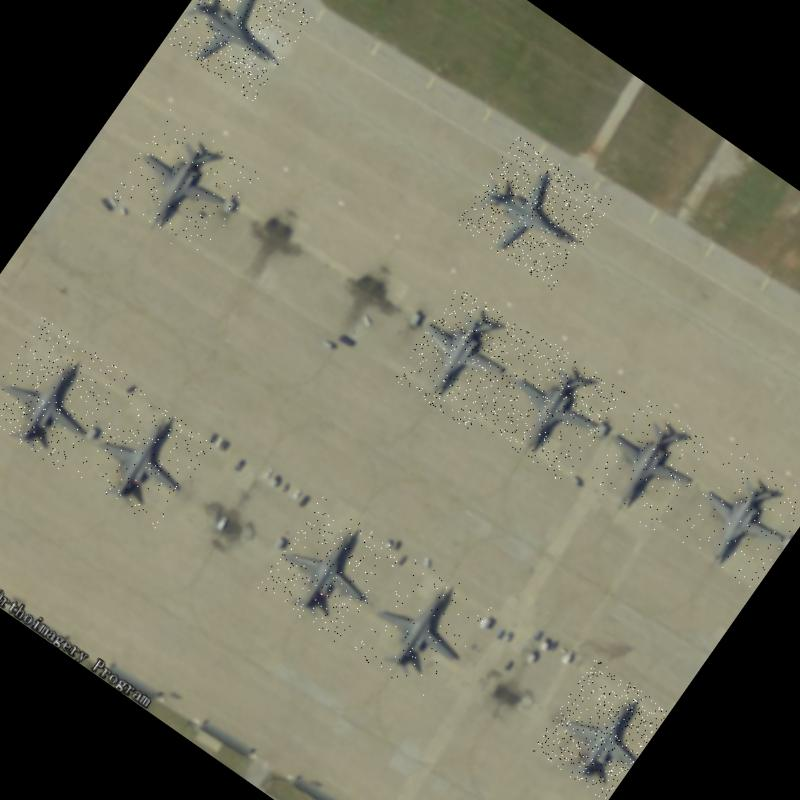A10: (456, 134, 614, 290), (107, 110, 262, 264), (476, 333, 626, 485), (256, 496, 403, 645), (351, 554, 496, 705), (392, 284, 535, 432), (74, 386, 215, 530), (0, 316, 129, 473), (530, 658, 669, 800), (670, 444, 800, 594), (584, 394, 718, 534), (166, 0, 313, 103)
